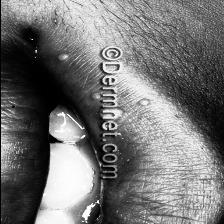Toxin: (134, 96, 153, 108), (54, 52, 68, 63)
